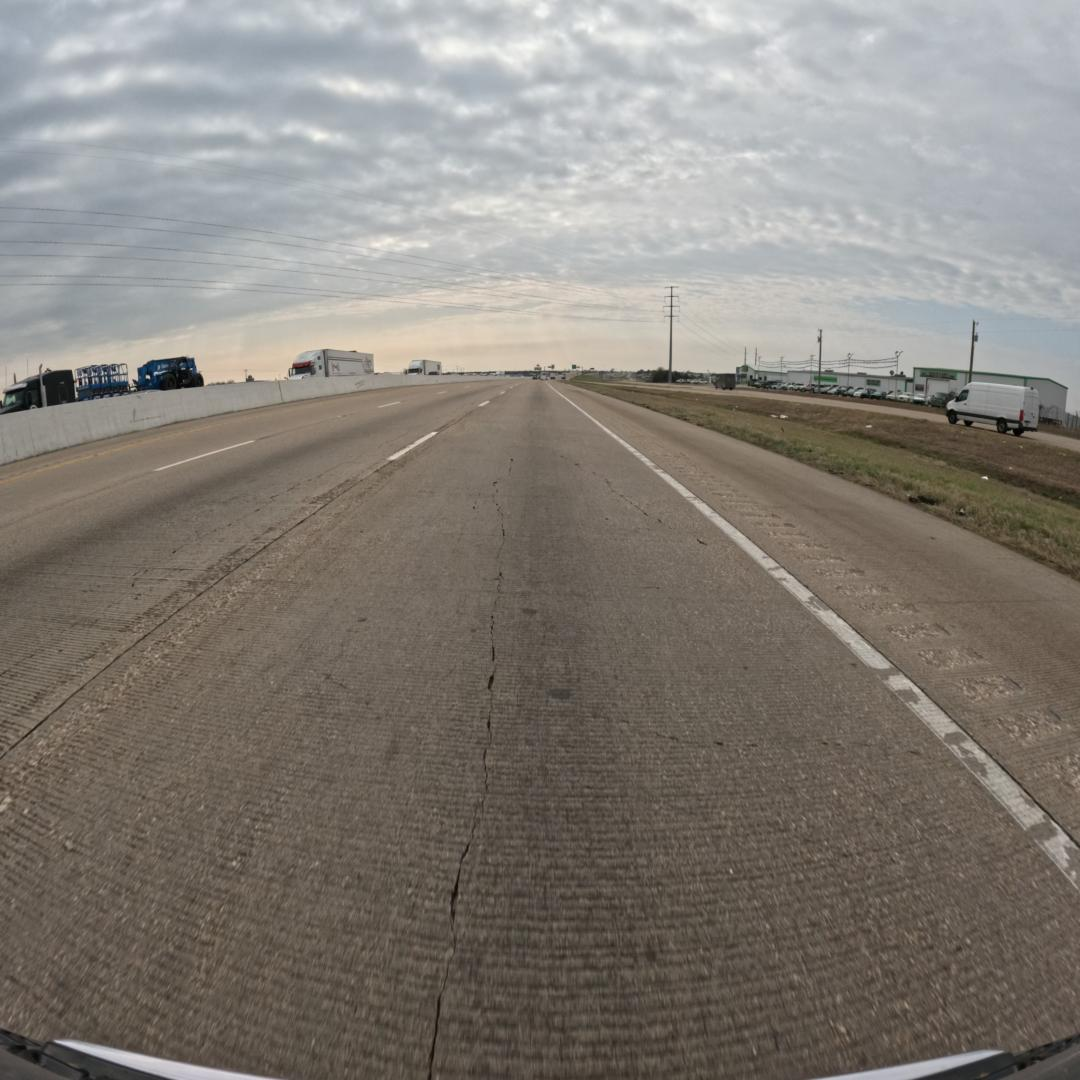lane0: (0, 386, 1080, 1077)
lane1: (0, 386, 503, 758)
